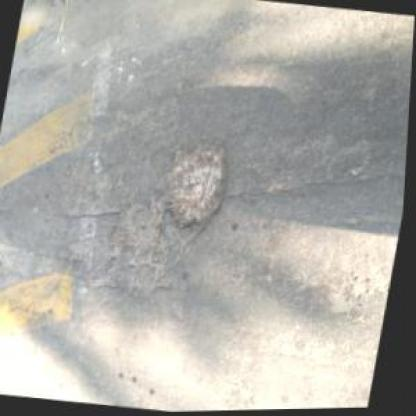pothole: (154, 133, 238, 236), (108, 196, 169, 260)
